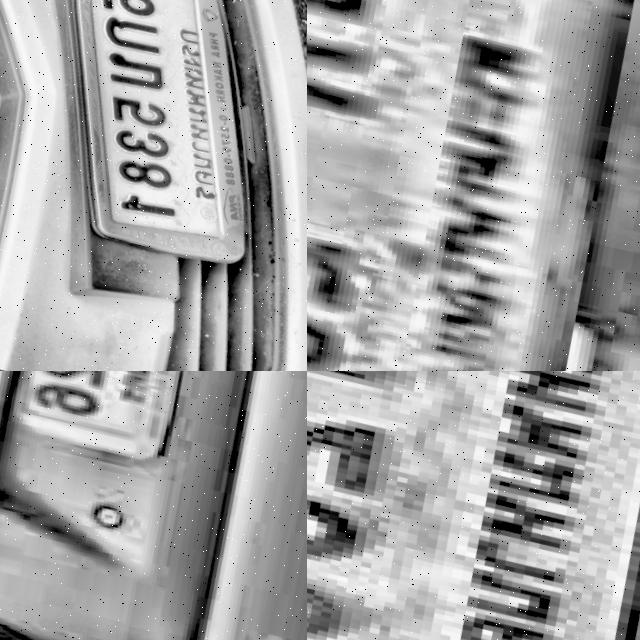license-plate: (307, 0, 640, 371), (307, 371, 640, 640), (0, 0, 307, 282), (0, 371, 233, 481)
